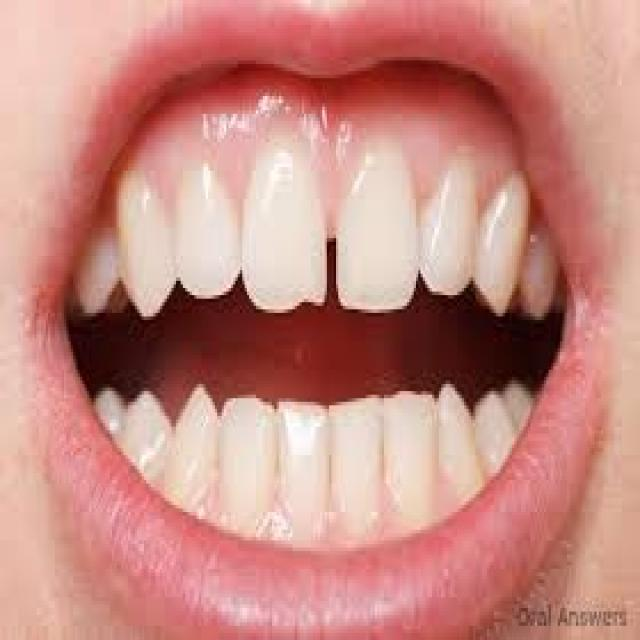tooth: (249, 160, 334, 320), (336, 156, 416, 316), (181, 164, 242, 302), (110, 178, 174, 302), (425, 153, 478, 277), (329, 398, 382, 519), (226, 377, 270, 519), (384, 395, 432, 519), (279, 388, 324, 519), (478, 178, 526, 284), (434, 395, 480, 501), (183, 380, 226, 490), (533, 213, 562, 320), (473, 398, 514, 469), (132, 391, 164, 480), (80, 256, 112, 313), (85, 388, 121, 420), (500, 377, 532, 412)
